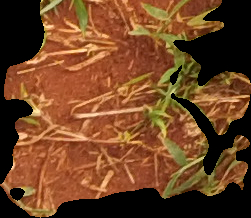soil: (2, 3, 248, 214)
